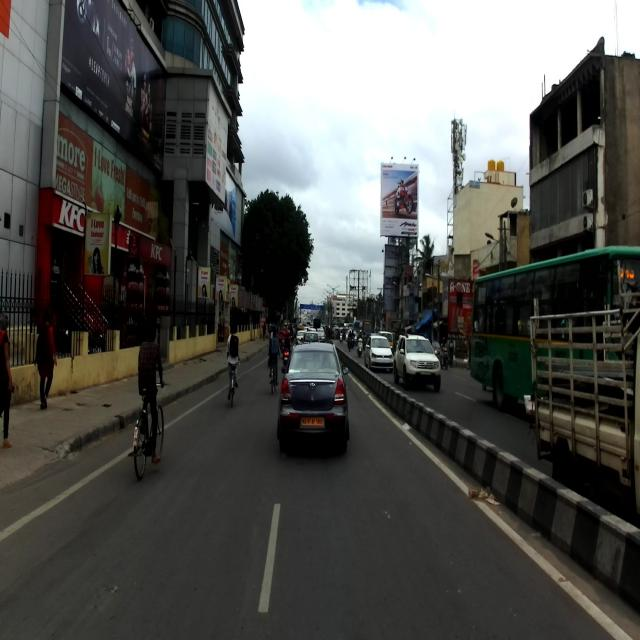bus: (468, 243, 640, 418)
car: (276, 340, 350, 458), (392, 331, 442, 390)
